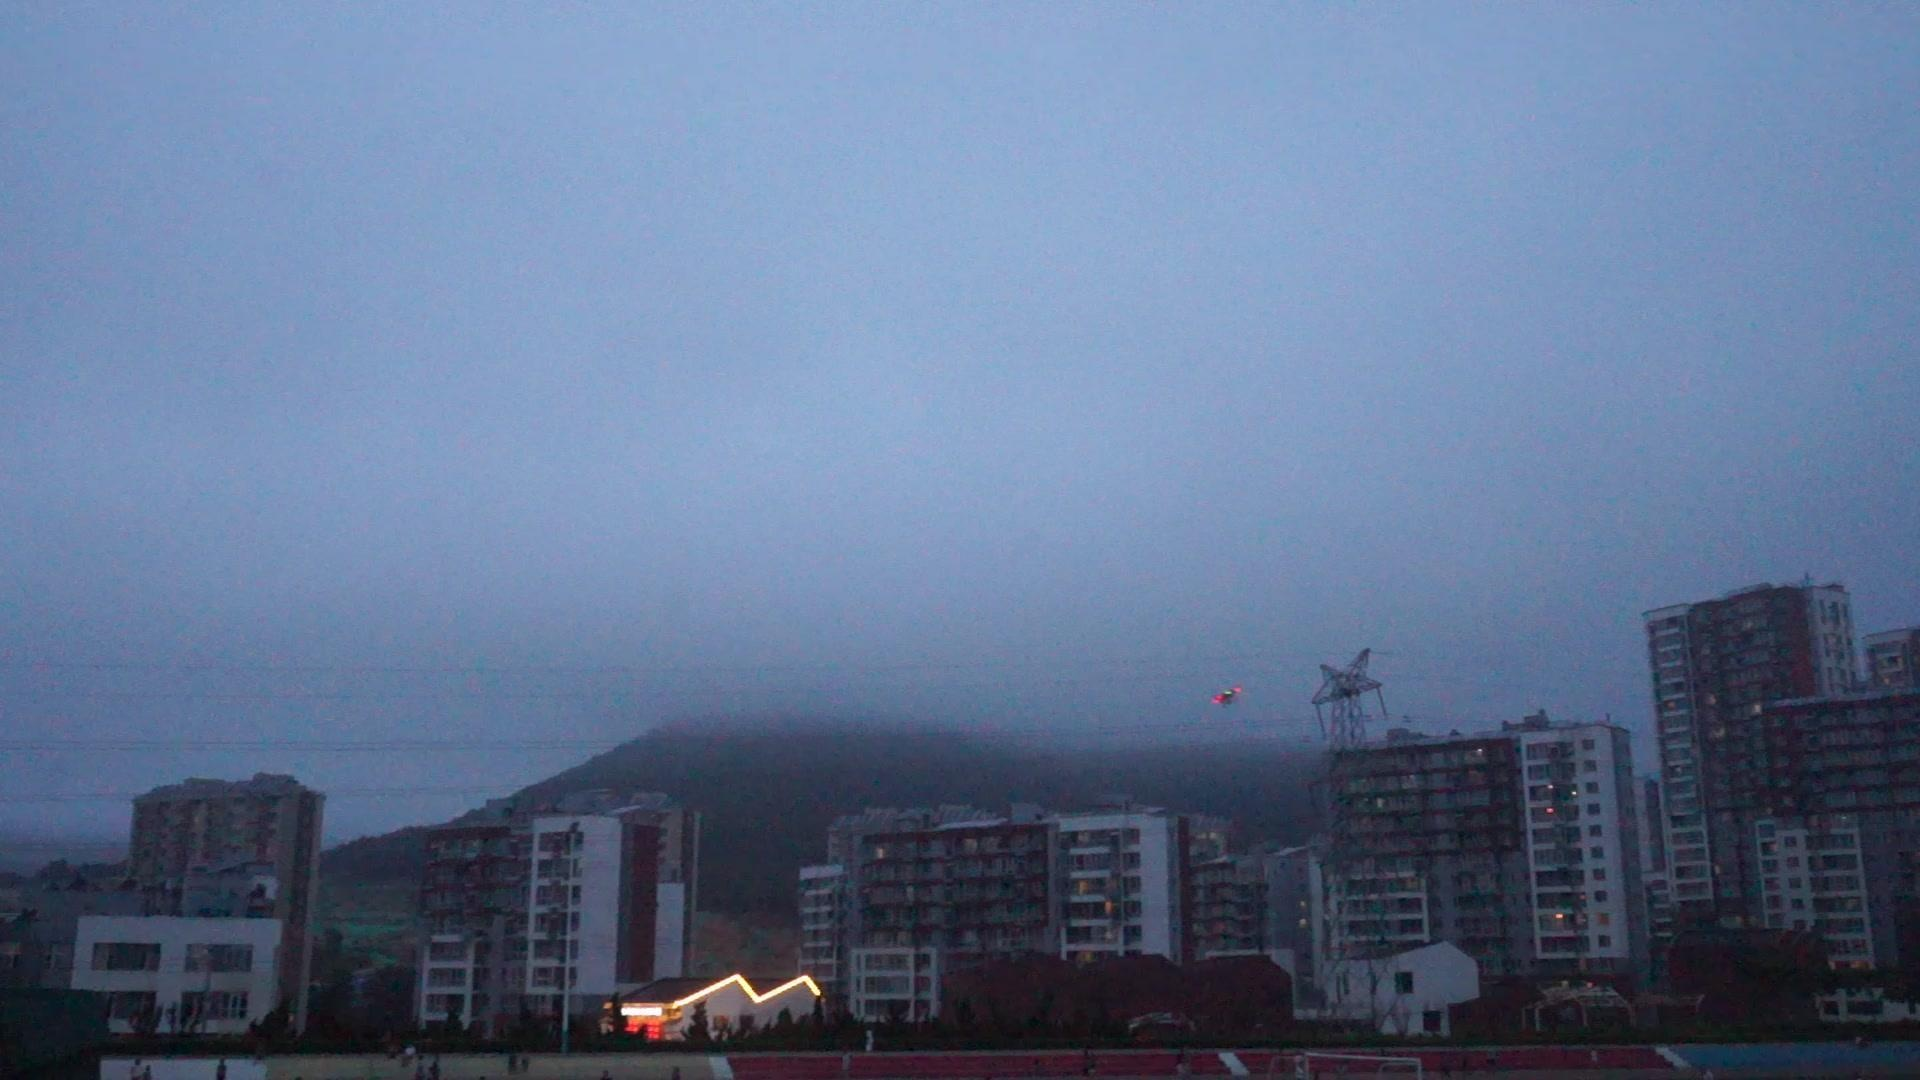UAV: (1211, 688, 1246, 709)
